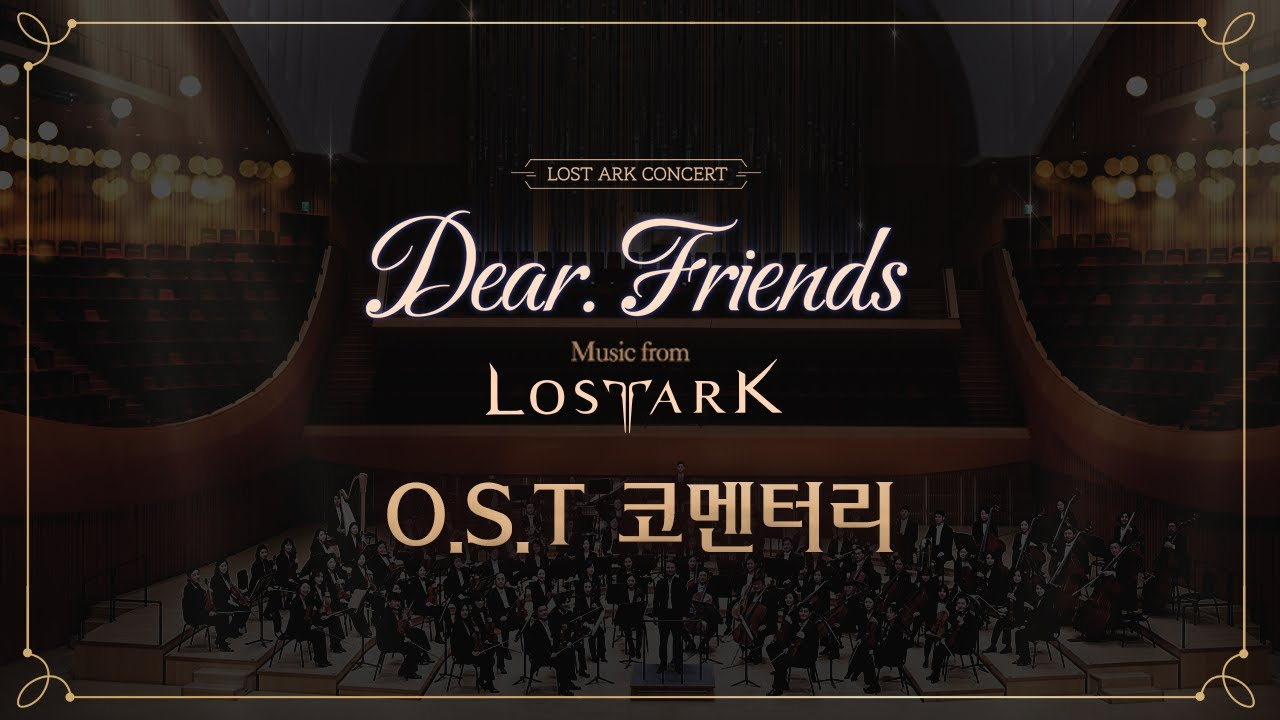Dear.: (362, 205, 602, 321)
Friends: (617, 214, 911, 323)
O.S.T: (384, 479, 590, 557)
코멘터리: (618, 479, 898, 558)
